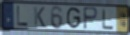6: (50, 4, 64, 30)
G: (66, 6, 82, 30)
K: (33, 5, 46, 29)
L: (101, 7, 115, 31), (17, 6, 30, 28)
P: (83, 6, 99, 31)
